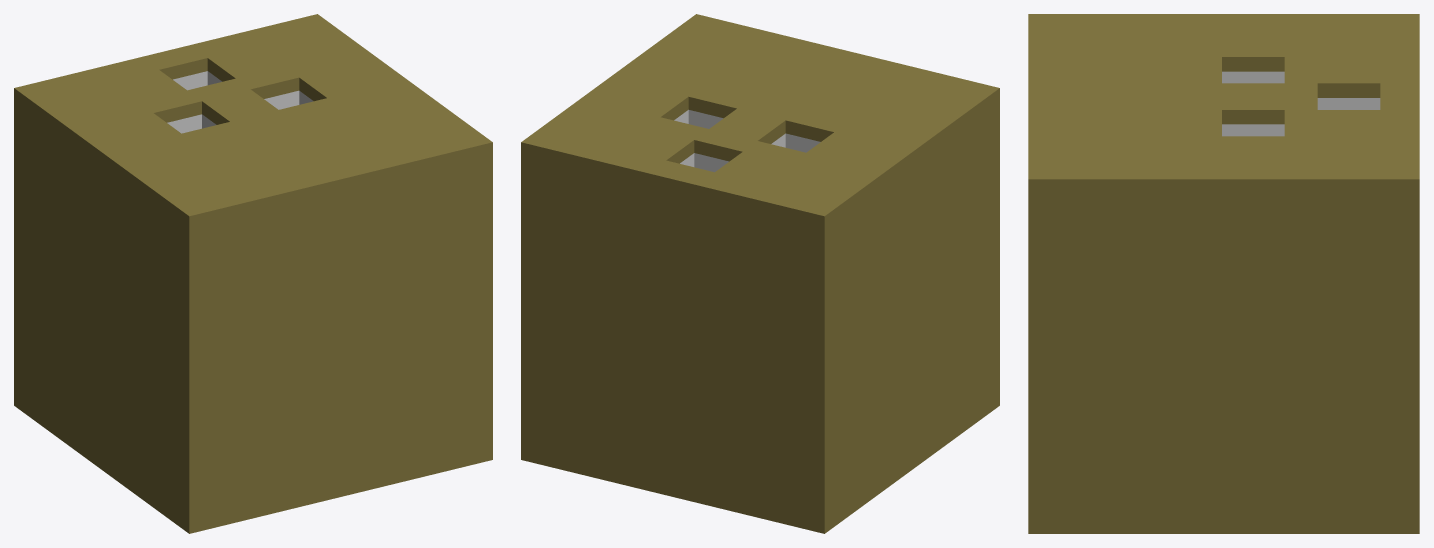
Rendered from Coconut.fbx.
3 views of the same model, side by side, from view 1: azimuth 30°, elevation 25°; view 2: azimuth 150°, elevation 25°; view 3: azimuth 270°, elevation 25° (orthographic). The views are drawn at different scales.
Visible parts, largest first — view 1: Coconut; view 2: Coconut; view 3: Coconut.
Boxes of the visible parts, x1,y1,x2,y2 form: Coconut: (14,14,492,533); Coconut: (521,14,999,533); Coconut: (1028,14,1419,533).
Size of the model in its own units: 1 by 1 by 1.
